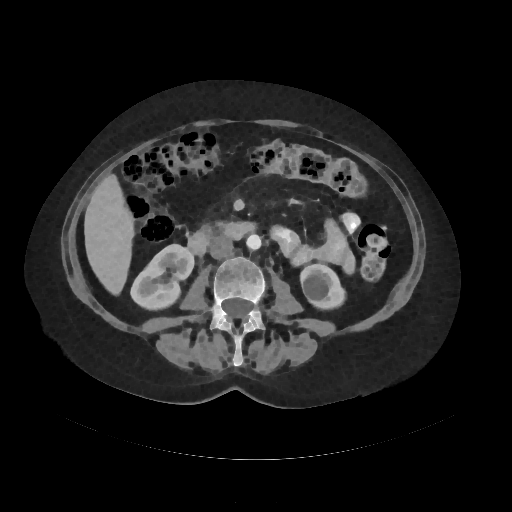Lesion: (302, 270, 332, 304)
